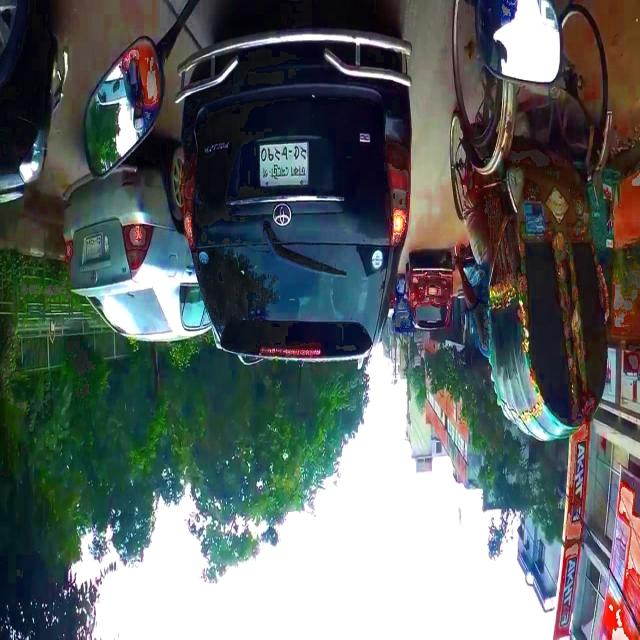black: (177, 40, 409, 358)
maroon: (404, 264, 454, 328)
silver: (62, 178, 207, 340)
